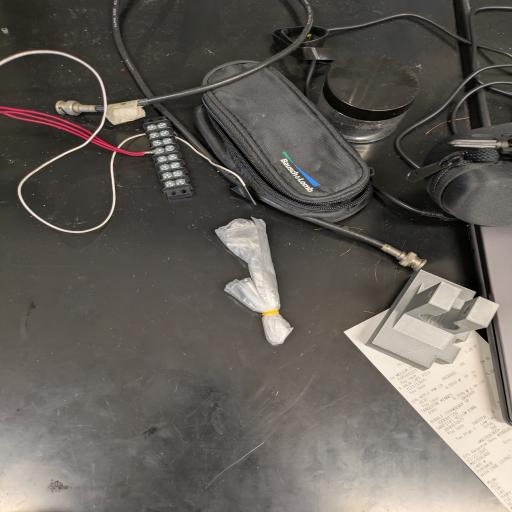rubberband: (211, 217, 296, 349)
